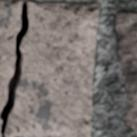brick: (114, 10, 136, 132)
broken_brick: (5, 1, 99, 136), (0, 0, 22, 114)
crack: (0, 1, 28, 135), (7, 0, 12, 4)
